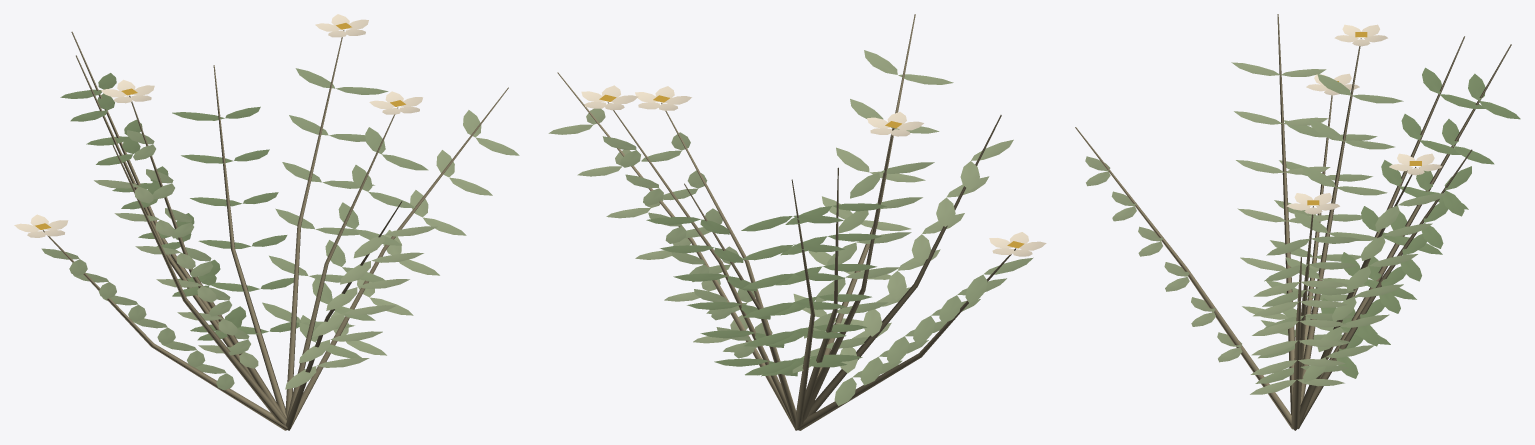
The model's file is CisteSauge_3_High.fbx.
The picture shows the model from 3 angles, left to right: view 1: azimuth 30°, elevation 25°; view 2: azimuth 150°, elevation 25°; view 3: azimuth 270°, elevation 25°; orthographic projection. The views are drawn at different scales.
Parts seen in each view (by area): view 1: CisteSauge_3_High; view 2: CisteSauge_3_High; view 3: CisteSauge_3_High.
Part boxes in pixels (<box>): CisteSauge_3_High: <box>14,14,519,430</box>; CisteSauge_3_High: <box>548,14,1046,430</box>; CisteSauge_3_High: <box>1075,14,1520,430</box>.
Bounding box in the file's own units: 105 × 73.72 × 88.63.
